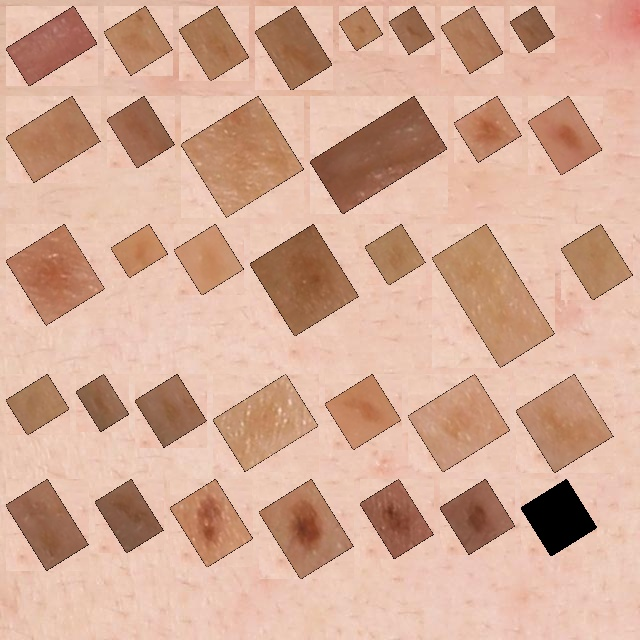hypertrophic_scar: (321, 107, 436, 203), (17, 17, 86, 75)
melasma: (443, 235, 544, 356), (192, 107, 293, 206), (261, 235, 348, 325), (224, 385, 307, 460), (17, 235, 94, 314), (419, 385, 499, 461), (527, 385, 602, 461), (17, 107, 89, 171), (17, 490, 77, 559), (266, 17, 321, 79), (539, 107, 591, 164), (336, 385, 390, 438), (572, 235, 622, 289), (146, 385, 196, 436), (190, 17, 238, 70), (106, 490, 152, 542), (185, 235, 233, 284), (118, 107, 163, 157), (115, 17, 162, 64), (465, 107, 511, 151), (452, 17, 492, 62), (17, 385, 58, 424), (376, 235, 414, 274), (122, 235, 157, 267), (87, 385, 118, 420), (400, 17, 424, 43), (521, 17, 543, 41), (350, 17, 372, 39)
nevus: (270, 490, 342, 568), (181, 490, 242, 556), (532, 490, 586, 545), (371, 490, 422, 547), (451, 490, 504, 543)
